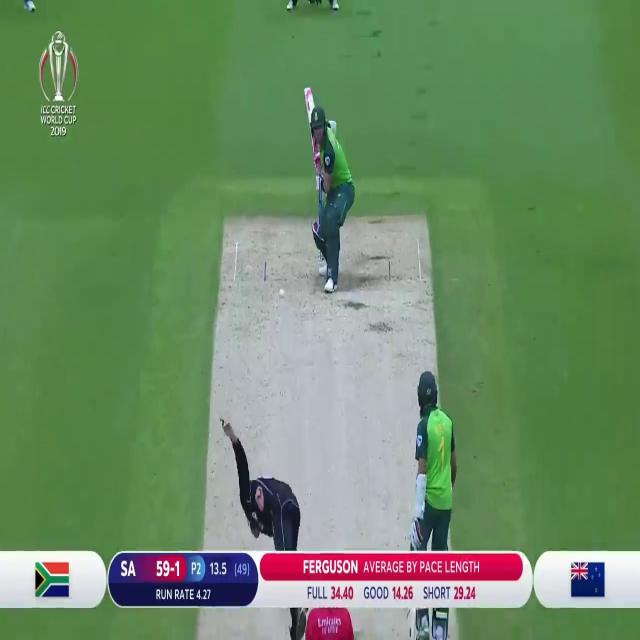ball: (274, 283, 289, 305)
